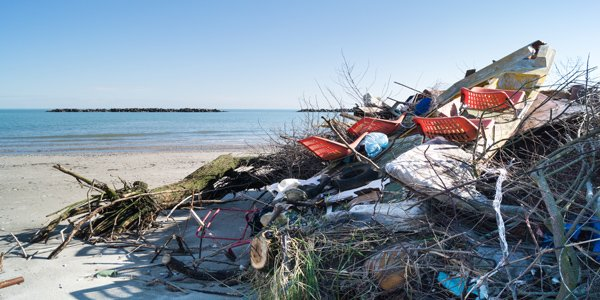litter: (199, 192, 288, 240), (294, 120, 381, 162), (455, 79, 532, 115), (416, 104, 485, 143), (429, 260, 495, 300), (350, 109, 411, 139), (357, 124, 409, 158)
